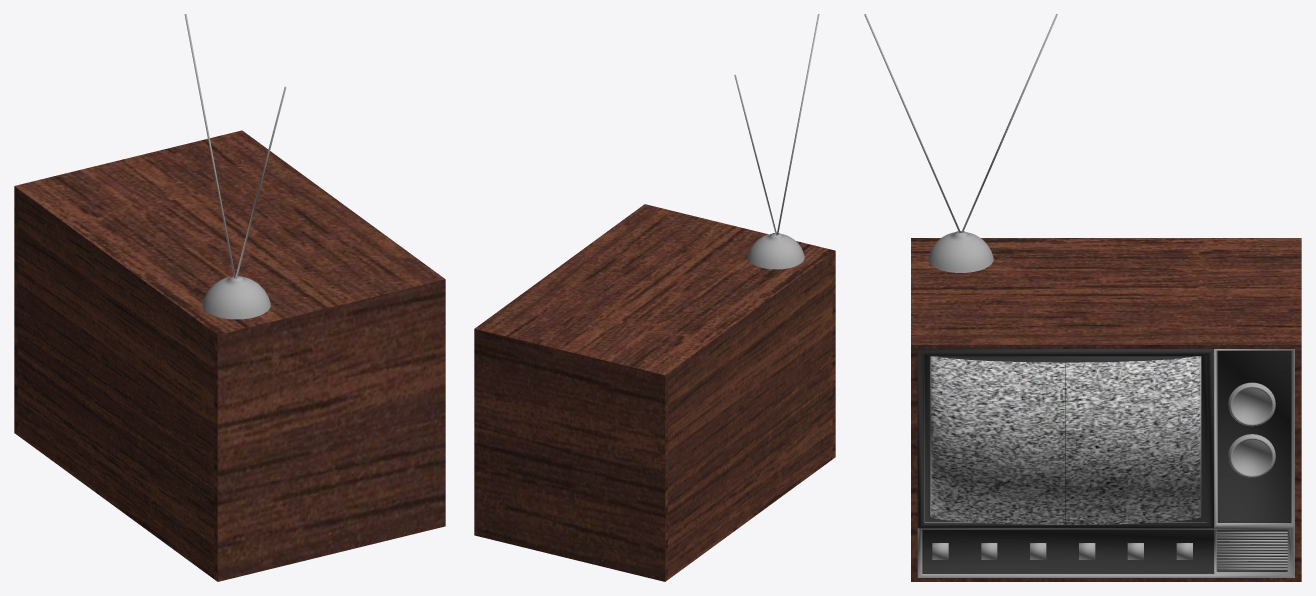
The model's file is TV-anim.glb.
The picture shows the model from 3 angles, left to right: view 1: azimuth 30°, elevation 25°; view 2: azimuth 150°, elevation 25°; view 3: azimuth 270°, elevation 25°; orthographic projection. The views are drawn at different scales.
Parts seen in each view (by area): view 1: TV-anim; view 2: TV-anim; view 3: TV-anim.
Boxes of the visible parts, box(x1,y1,x2,y2) form: TV-anim: box(14, 14, 445, 581); TV-anim: box(474, 14, 835, 581); TV-anim: box(864, 14, 1301, 581).
Bounding box in the file's own units: 0.6765 × 1.35 × 1.11.
3 materials, 3 textured.
